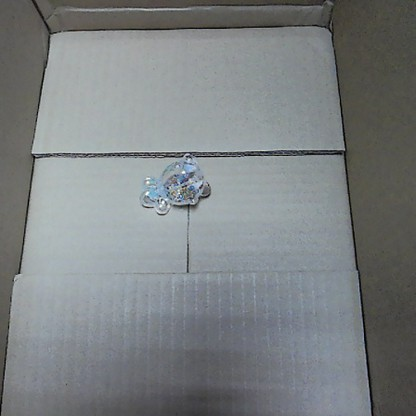whitefish: (136, 151, 213, 216)
